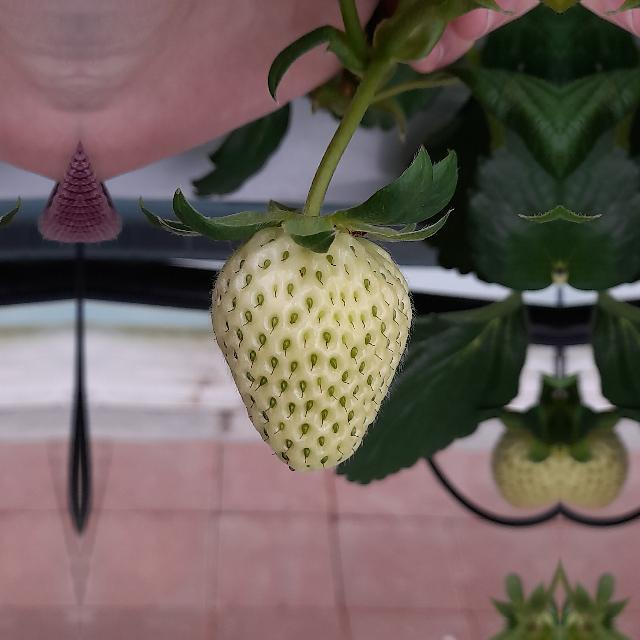Health_25: (210, 226, 412, 472)
